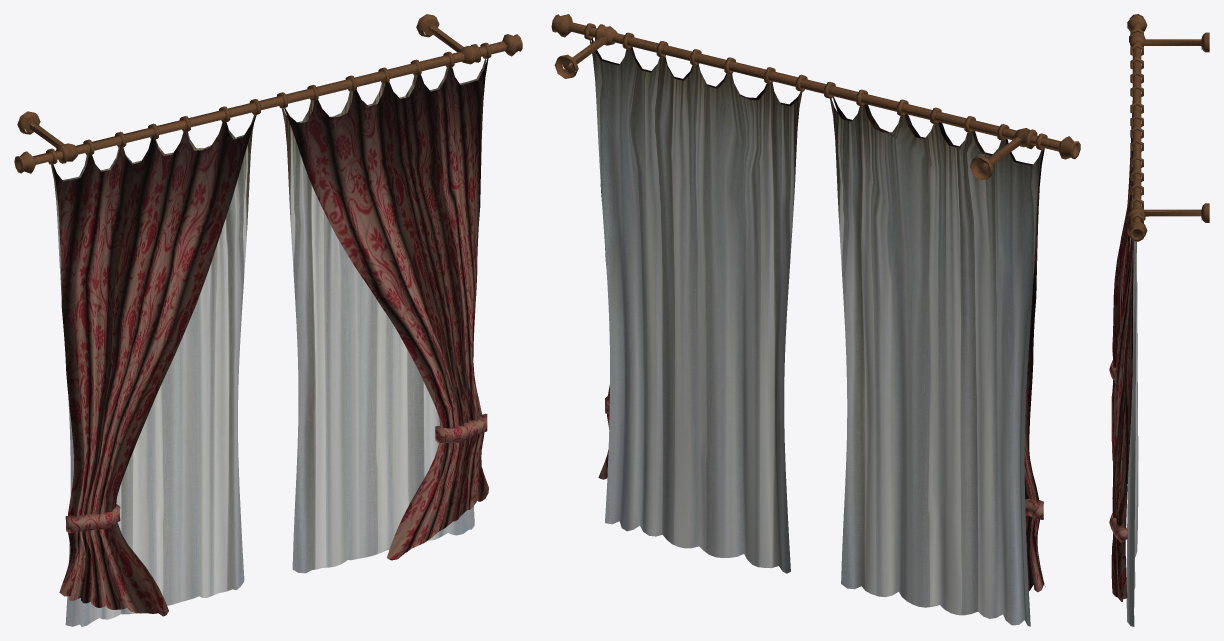
The model's file is curtains_red.glb.
3 renders of one model, left to right at view 1: azimuth 30°, elevation 25°; view 2: azimuth 150°, elevation 25°; view 3: azimuth 270°, elevation 25°, orthographic. The views are drawn at different scales.
Bounding box in the file's own units: 1732 × 1615 × 345.
Materials: 3 (3 with a texture image).
